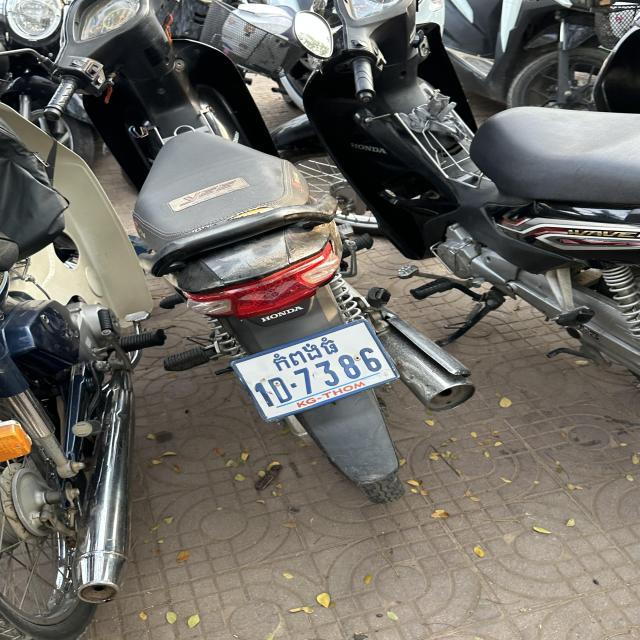Kampong_Thom: (270, 333, 337, 370)
